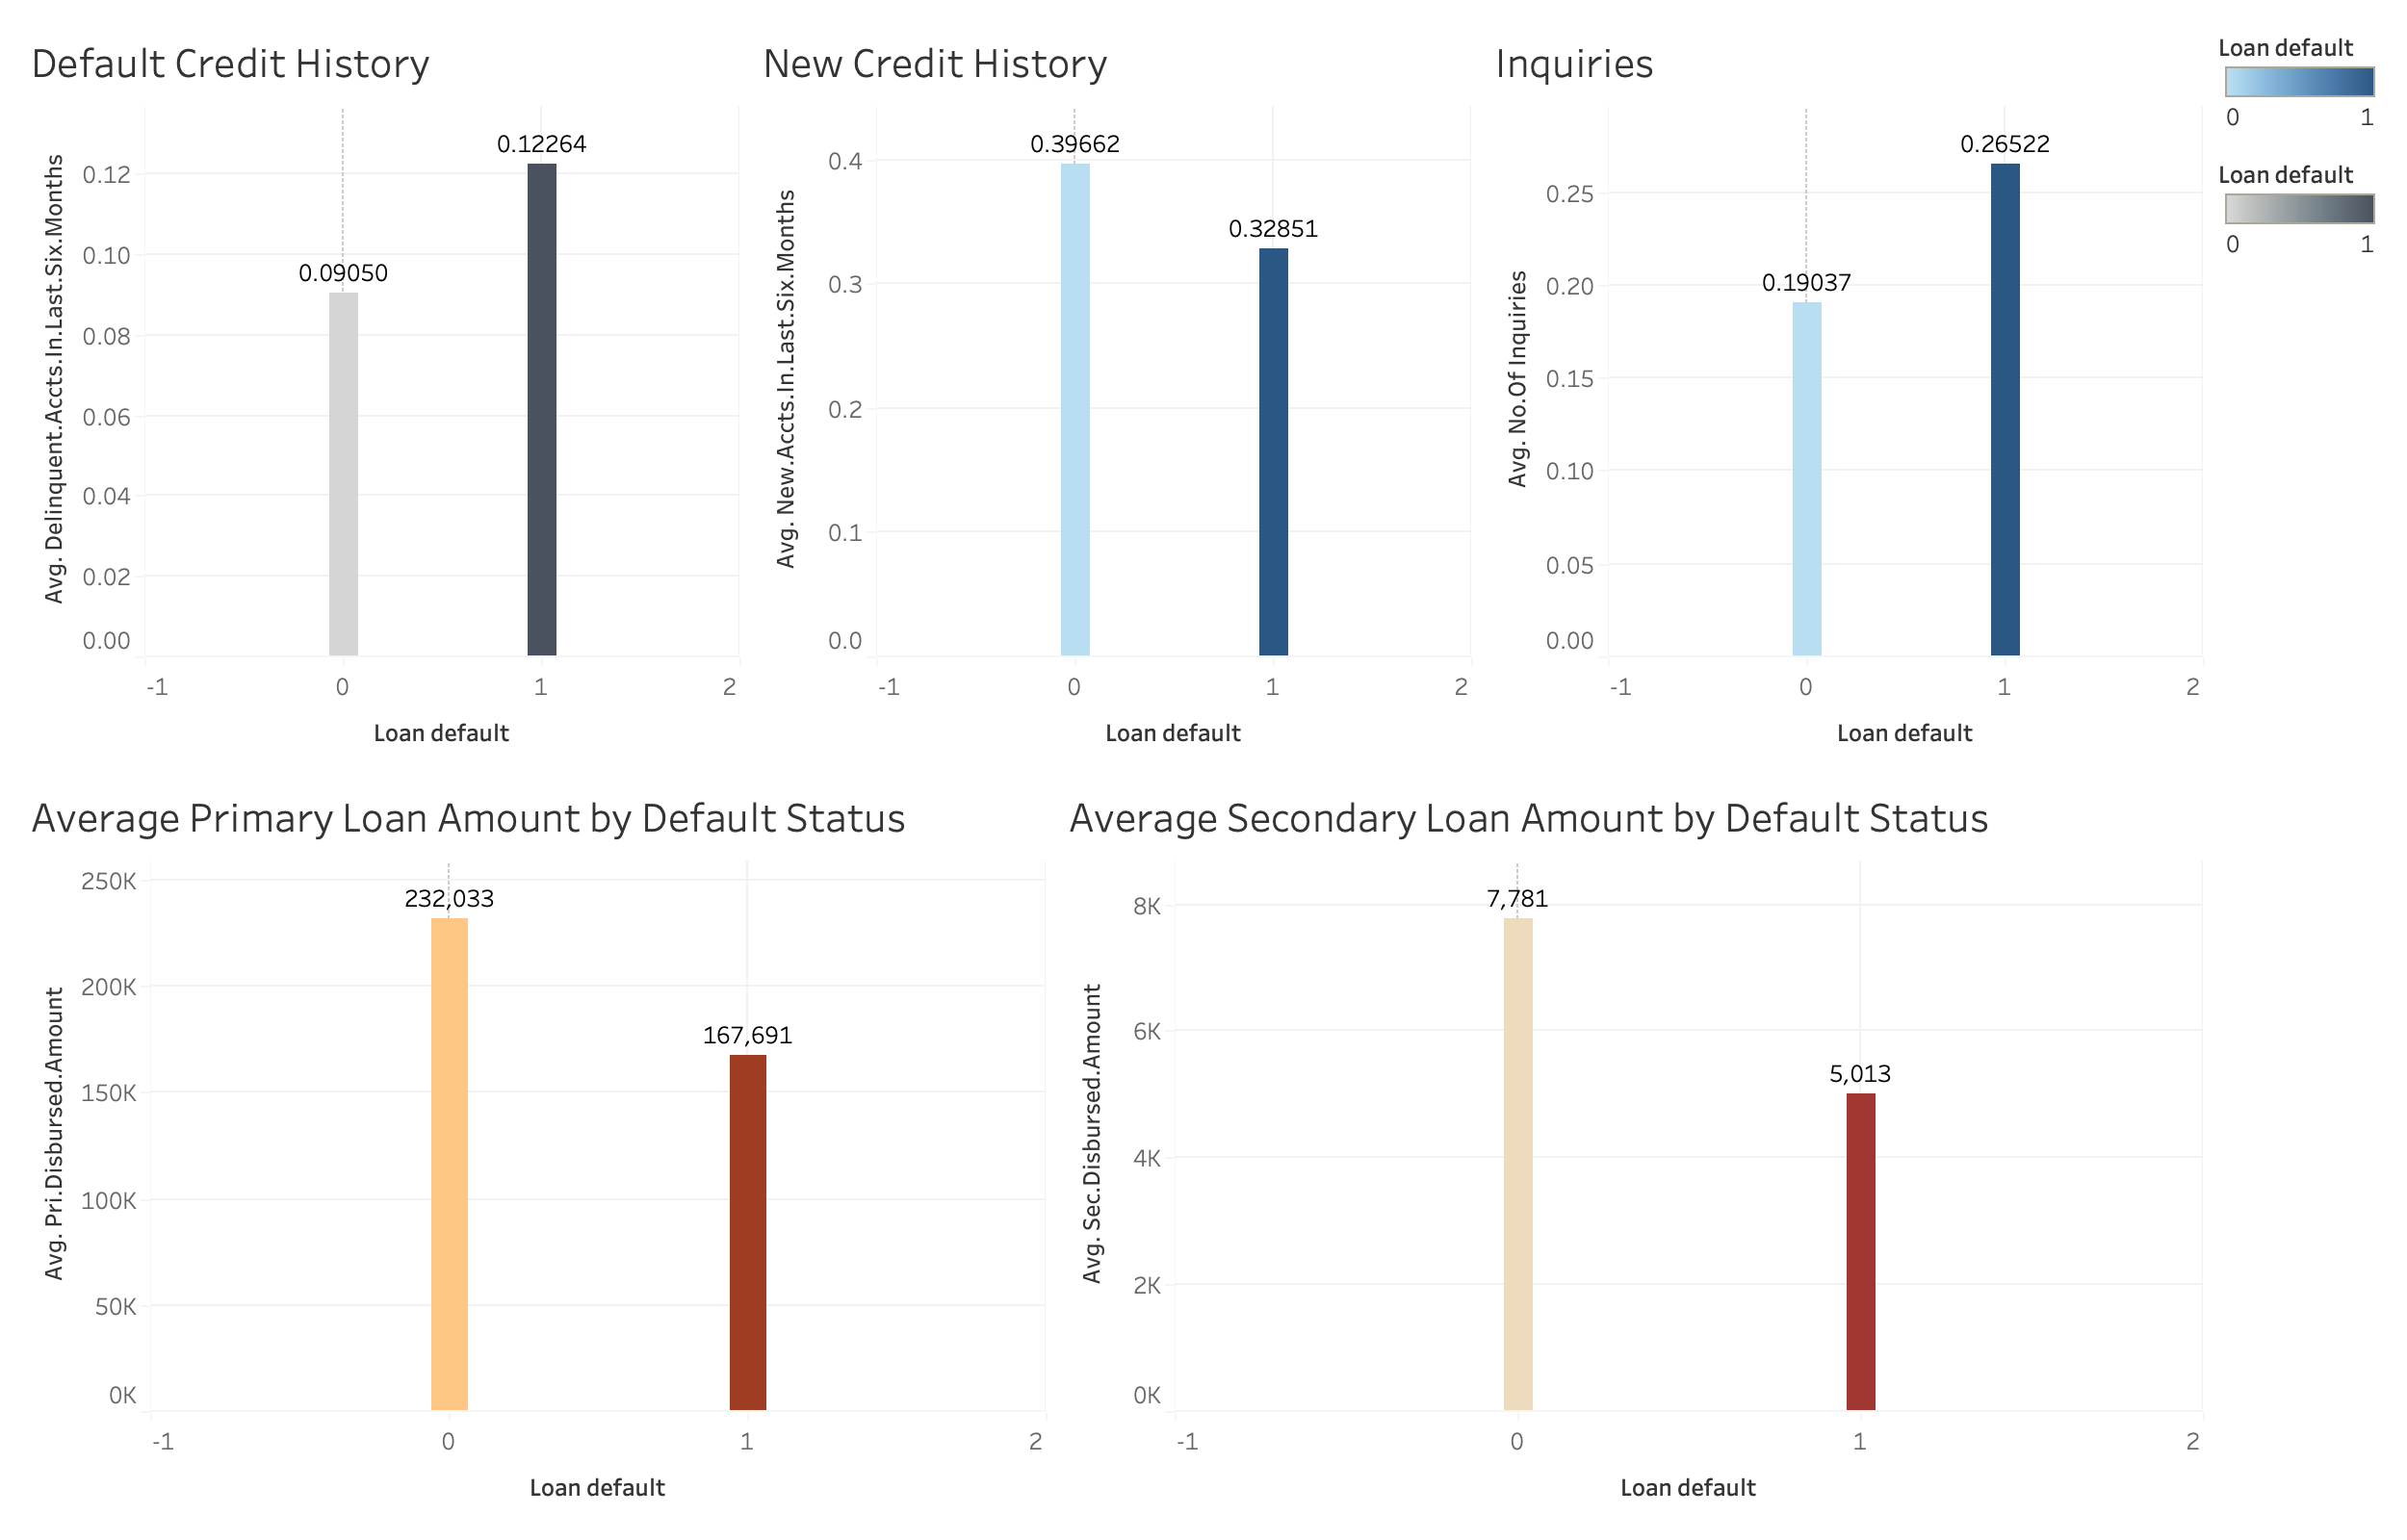

Layout of this report page (visuals, bound fields, positions):
{"tool":"tableau","page":{"name":"The Detailed Loan & Credit Dive","canvas":[1250,800],"ordinal":0},"visuals":[{"type":"worksheet","title":"Default Credit History","mark":"Bar","rows":["DELINQUENT.ACCTS.IN.LAST.SIX.MONTHS"],"cols":["Calculation_3412602662523293697"],"box":[8,8,380,392]},{"type":"worksheet","title":"New Credit History","mark":"Bar","rows":["NEW.ACCTS.IN.LAST.SIX.MONTHS"],"cols":["Calculation_3412602662523293697"],"box":[388,8,380,392]},{"type":"worksheet","title":"Inquiries","mark":"Bar","rows":["NO.OF_INQUIRIES"],"cols":["Calculation_3412602662523293697"],"box":[768,8,380,392]},{"type":"legend","title":"Inquiries","param":"[federated.1ljrgf00581if515bjikj00tv5dx].[none:Calculation_3412602662523293697:q","box":[1148,8,94,65]},{"type":"legend","title":"Default Credit History","param":"[federated.1ljrgf00581if515bjikj00tv5dx].[none:Calculation_3412602662523293697:q","box":[1148,73,94,65]},{"type":"worksheet","title":"Average Primary Loan Amount by Default Status","mark":"Bar","rows":["PRI.DISBURSED.AMOUNT"],"cols":["Calculation_3412602662523293697"],"box":[8,400,539,392]},{"type":"worksheet","title":"Average Secondary Loan Amount by Default Status","mark":"Bar","rows":["SEC.DISBURSED.AMOUNT"],"cols":["Calculation_3412602662523293697"],"box":[547,400,601,392]}]}

Visuals, with their boxes in screenshot pixels (x1, y1, x2, y2), scaled from the page's 1250x800 canvas onto the 2407x1540 screenshot:
"Default Credit History" worksheet (Bar marks): Rect(15, 15, 747, 770)
"New Credit History" worksheet (Bar marks): Rect(747, 15, 1479, 770)
"Inquiries" worksheet (Bar marks): Rect(1479, 15, 2211, 770)
"Inquiries" legend: Rect(2211, 15, 2392, 141)
"Default Credit History" legend: Rect(2211, 141, 2392, 266)
"Average Primary Loan Amount by Default Status" worksheet (Bar marks): Rect(15, 770, 1053, 1525)
"Average Secondary Loan Amount by Default Status" worksheet (Bar marks): Rect(1053, 770, 2211, 1525)
